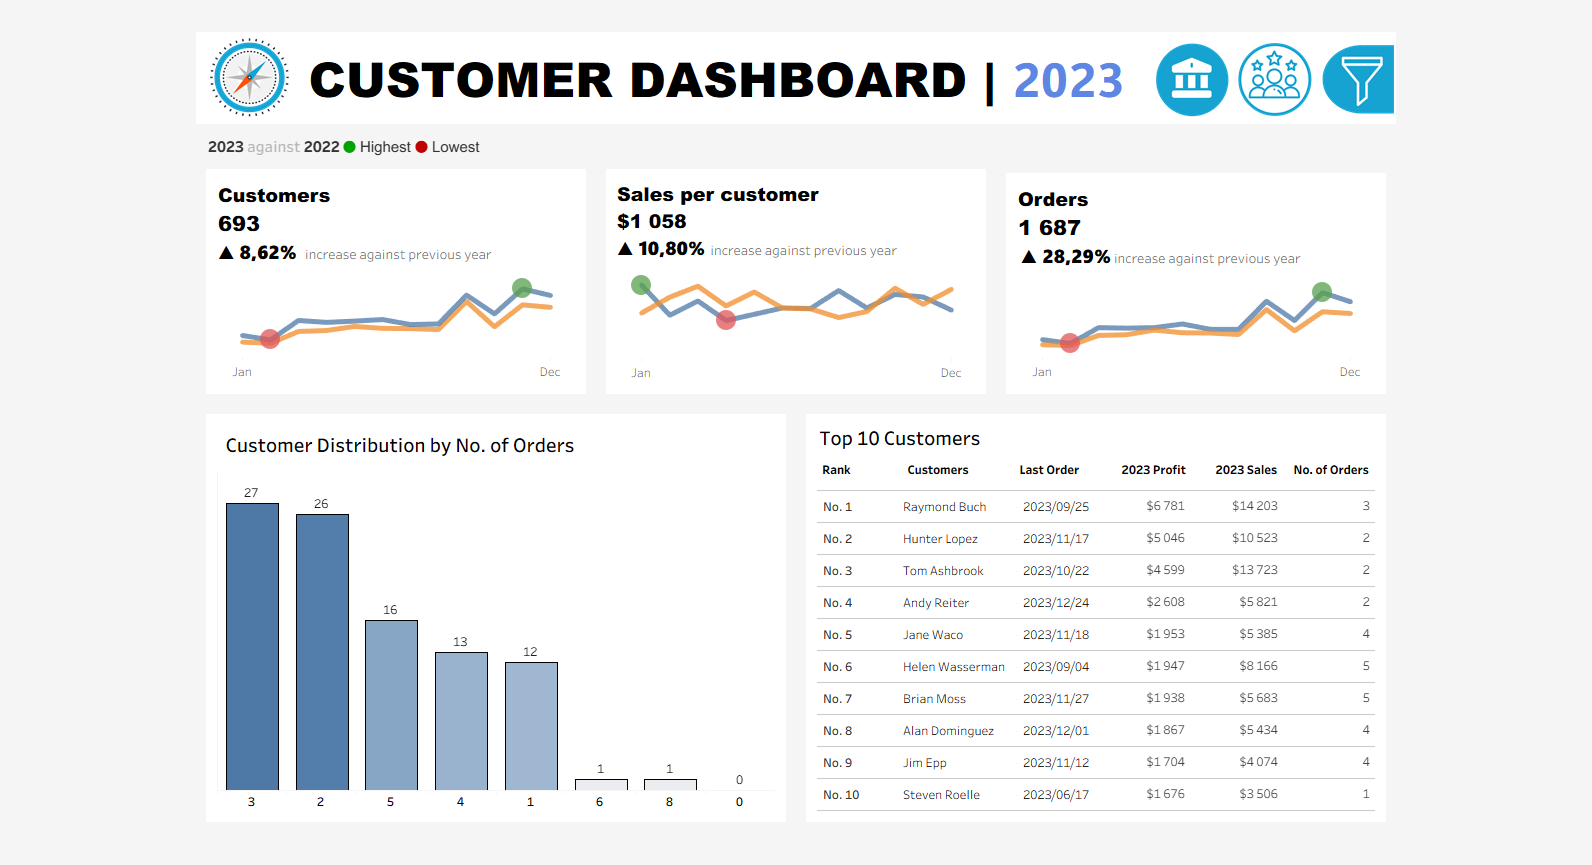

Layout of this report page (visuals, bound fields, positions):
{"tool":"tableau","page":{"name":"Customer Dashboard","canvas":[1200,800],"ordinal":0},"visuals":[{"type":"image","param":"Image/Icon - Logo.png","box":[0,0,106,92]},{"type":"text","box":[106,0,1094,92]},{"type":"dashboard-object","box":[954,1,83,92]},{"type":"dashboard-object","box":[1037,1,83,92]},{"type":"dashboard-object","box":[1120,1,82,92]},{"type":"worksheet","title":"Legend of Sparklines","mark":"Automatic","box":[0,92,1200,45]},{"type":"text","box":[979,102,211,31]},{"type":"parameter","param":"[Parameters].[Parameter 1]","box":[979,133,211,63]},{"type":"worksheet","title":"Customers","mark":"Line","rows":["Min and Max of Customers (copy)_2505252665438219"],"cols":["Order Date"],"box":[0,137,400,235]},{"type":"worksheet","title":"Sales/Customer","mark":"Line","rows":["Min and Max of Sales (copy)_2505252628639749"],"cols":["Order Date"],"box":[400,137,400,235]},{"type":"worksheet","title":"Orders","mark":"Line","rows":["Calculation_2505252678156309"],"cols":["Order Date"],"box":[800,137,400,235]},{"type":"blank","box":[979,196,211,32]},{"type":"text","box":[979,228,211,29]},{"type":"filter","title":"Customers","param":"[federated.18nfv5z19ty0oz13mfh201sb8dke].[none:Category:nk]","box":[979,257,211,52]},{"type":"filter","title":"Customers","param":"[federated.18nfv5z19ty0oz13mfh201sb8dke].[none:Sub-Category:nk]","box":[979,309,211,52]},{"type":"blank","box":[979,361,211,48]},{"type":"text","box":[17,389,566,46]},{"type":"text","box":[617,389,566,31.7]},{"type":"text","box":[979,409,211,29]},{"type":"text","box":[617,420.7,88,33.3]},{"type":"text","box":[705,420.7,112,33.3]},{"type":"text","box":[817,420.7,102,33.3]},{"type":"text","box":[919,420.7,94,33.3]},{"type":"text","box":[1013,420.7,78,33.3]},{"type":"text","box":[1091,420.7,92,33.3]},{"type":"worksheet","title":"Distribution of Cust.","mark":"Bar","rows":["Calculation_2505252621381633"],"cols":["Calculation_2613554858184704"],"box":[17,435,566,348]},{"type":"filter","title":"Customers","param":"[federated.18nfv5z19ty0oz13mfh201sb8dke].[none:Region:nk]","box":[979,438,211,52]},{"type":"worksheet","title":"Top 10 Customers","mark":"Automatic","rows":["Calculation_2613554861273091","Customer Name","Order Date"],"box":[617,454,566,329]},{"type":"filter","title":"Customers","param":"[federated.18nfv5z19ty0oz13mfh201sb8dke].[none:State:nk]","box":[979,490,211,52]},{"type":"filter","title":"Customers","param":"[federated.18nfv5z19ty0oz13mfh201sb8dke].[none:City:nk]","box":[979,542,211,52]}]}

Visuals, with their boxes on the page's 1200x800 design canvas (x1, y1, x2, y2). These are canvas units, not pixel positions in the 1592x865 screenshot, which may show the page scaled, cropped or inside an application window:
image: 0,0,106,92
text: 106,0,1200,92
dashboard-object: 954,1,1037,93
dashboard-object: 1037,1,1120,93
dashboard-object: 1120,1,1202,93
"Legend of Sparklines" worksheet: 0,92,1200,137
text: 979,102,1190,133
parameter: 979,133,1190,196
"Customers" worksheet (Line marks): 0,137,400,372
"Sales/Customer" worksheet (Line marks): 400,137,800,372
"Orders" worksheet (Line marks): 800,137,1200,372
blank: 979,196,1190,228
text: 979,228,1190,257
"Customers" filter: 979,257,1190,309
"Customers" filter: 979,309,1190,361
blank: 979,361,1190,409
text: 17,389,583,435
text: 617,389,1183,421
text: 979,409,1190,438
text: 617,421,705,454
text: 705,421,817,454
text: 817,421,919,454
text: 919,421,1013,454
text: 1013,421,1091,454
text: 1091,421,1183,454
"Distribution of Cust." worksheet (Bar marks): 17,435,583,783
"Customers" filter: 979,438,1190,490
"Top 10 Customers" worksheet: 617,454,1183,783
"Customers" filter: 979,490,1190,542
"Customers" filter: 979,542,1190,594
